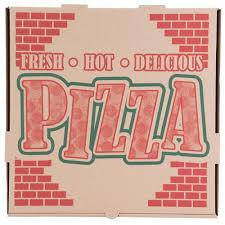Cardboard: (5, 5, 225, 225)
